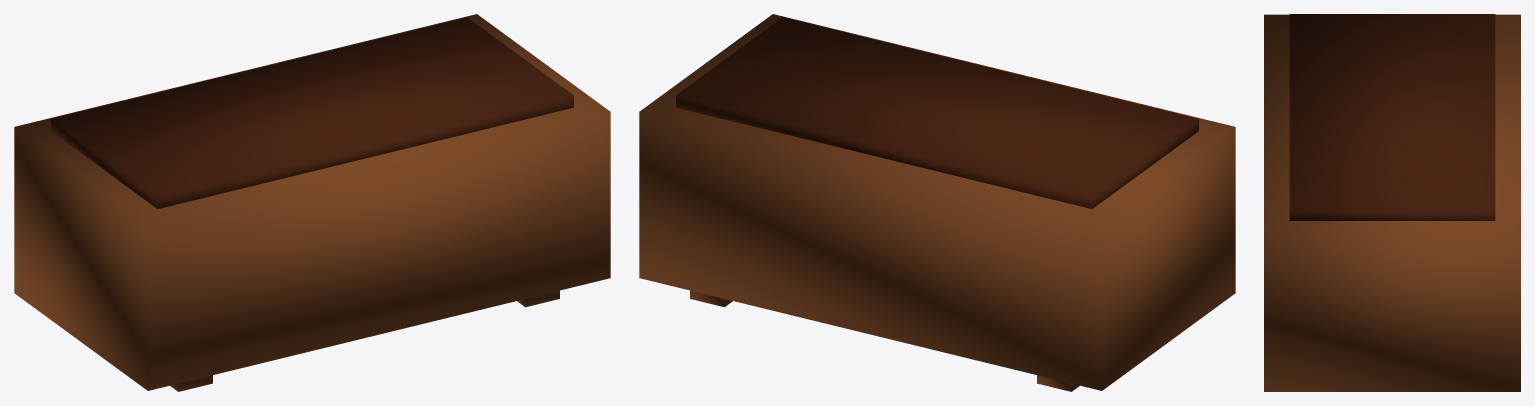
File: trog.glb
3 views of the same model, side by side, from view 1: azimuth 30°, elevation 25°; view 2: azimuth 150°, elevation 25°; view 3: azimuth 270°, elevation 25° (orthographic). The views are drawn at different scales.
Parts seen in each view (by area): view 1: RanchTrog; view 2: RanchTrog; view 3: RanchTrog.
Part boxes in pixels (x1=…): RanchTrog: x1=14, y1=14, x2=610, y2=391; RanchTrog: x1=639, y1=14, x2=1235, y2=391; RanchTrog: x1=1264, y1=14, x2=1520, y2=391.
Bounding box in the file's own units: 1.6 × 0.65 × 0.8.
1 material, 1 textured.
